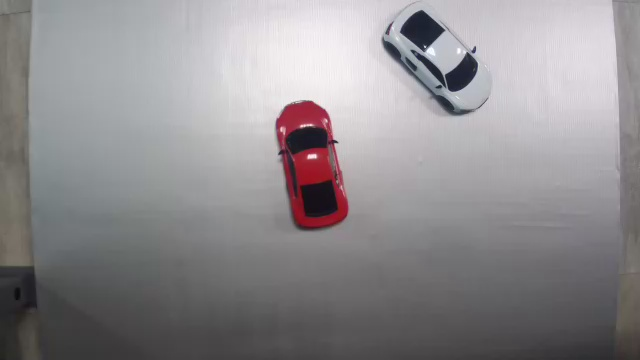car: (382, 1, 492, 114), (275, 99, 350, 231)
